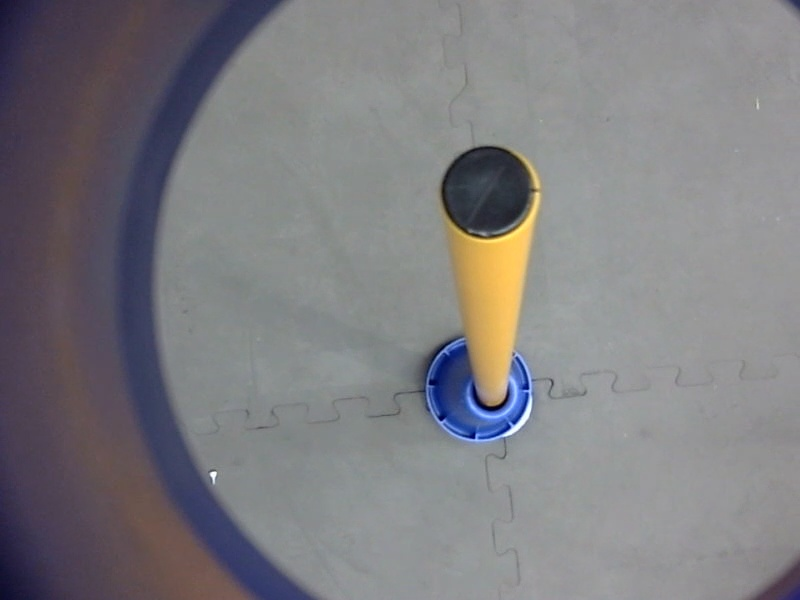tip: (435, 140, 547, 249)
